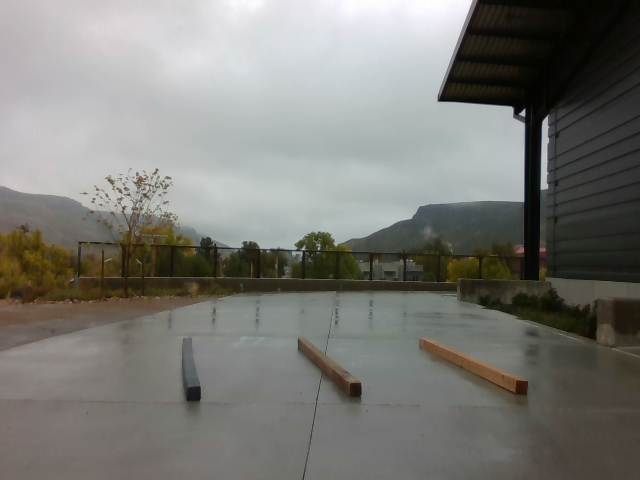dunnage: (173, 322, 537, 411)
